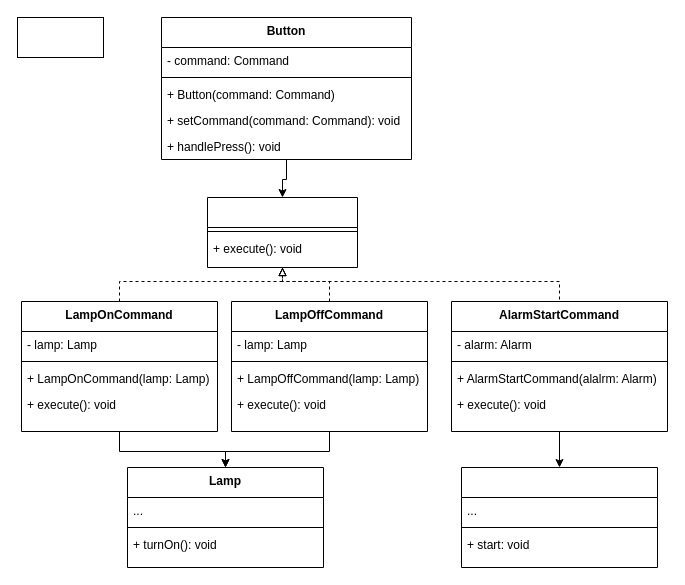
Image size: 685x585. Some labels were removed from this diagram. Here are the shapes that lost their labels. From the top down, the box of each, then its label:
(16, 16, 104, 58): Client
(206, 196, 358, 268): Command
(460, 466, 658, 568): Alarm
